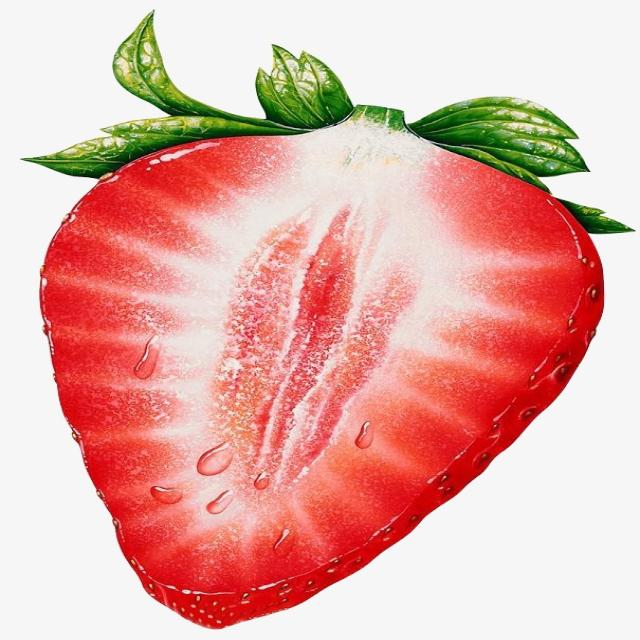strawberry: (0, 24, 640, 630)
